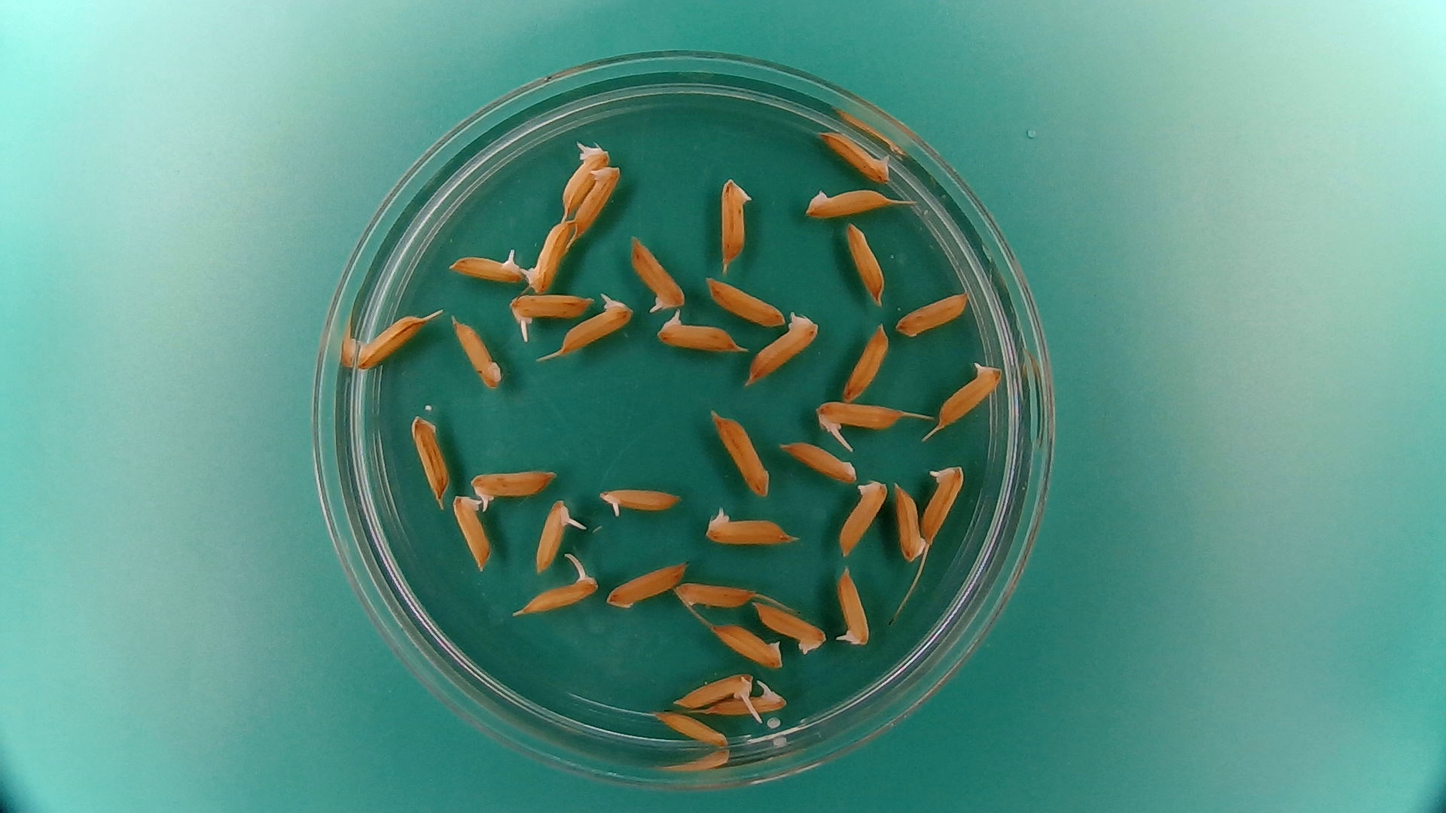no: (706, 406, 771, 498), (750, 313, 818, 384), (604, 558, 688, 611), (447, 312, 504, 388), (749, 600, 828, 654), (704, 278, 786, 330), (353, 312, 423, 372), (892, 286, 971, 339), (840, 320, 890, 401), (840, 222, 886, 308), (706, 620, 784, 669), (776, 439, 859, 485), (840, 483, 890, 559), (450, 491, 494, 573), (411, 415, 450, 507), (673, 575, 758, 614), (718, 178, 751, 273), (654, 709, 730, 750), (893, 481, 930, 564), (804, 187, 891, 220)
yes: (631, 235, 688, 312), (701, 503, 798, 548), (520, 215, 575, 294), (936, 365, 1002, 430), (558, 300, 633, 357), (819, 131, 895, 187), (467, 464, 559, 510), (593, 481, 685, 523), (570, 164, 621, 238), (921, 461, 967, 543), (515, 577, 600, 618), (833, 563, 872, 650), (563, 145, 610, 217), (671, 674, 758, 712), (509, 288, 596, 324), (811, 400, 900, 433), (706, 686, 791, 720), (660, 319, 738, 355), (532, 501, 572, 571), (453, 251, 526, 286)
